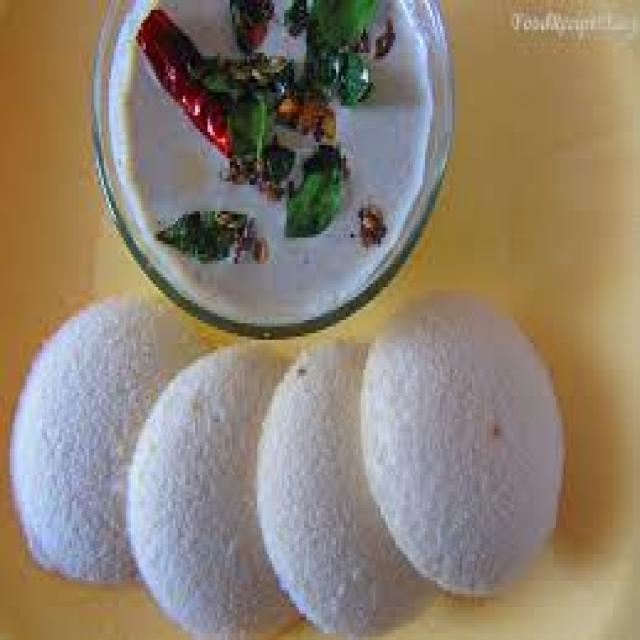IDLI: (361, 297, 556, 591), (10, 300, 195, 577), (262, 343, 427, 633), (128, 346, 287, 630)
